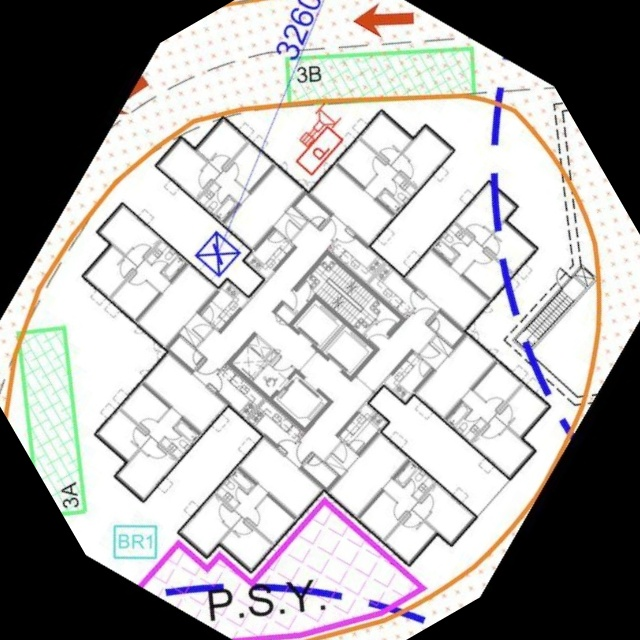tower_crane: (192, 230, 245, 280)
